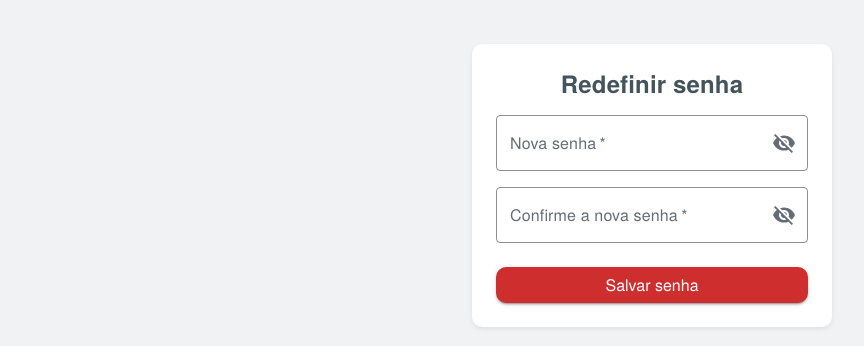
ResetPassword › should save the new password, open the session and go to the menu
The width and height of the screenshot is (864, 346).
Step 1. Type "senha-nova-1" into the password field labelled "Nova senha *" → (626, 143), box [496,115,756,171]
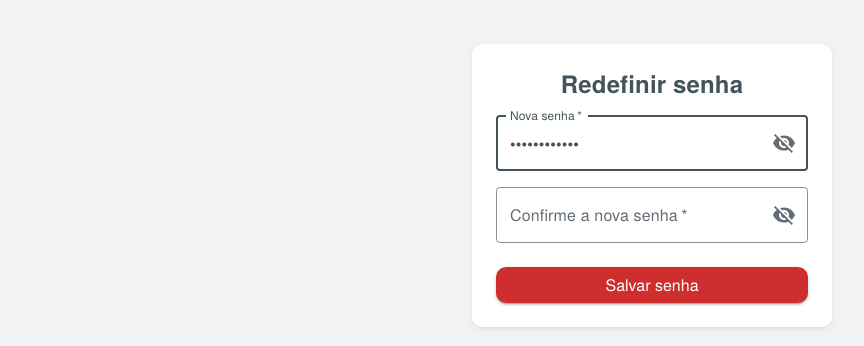
Step 2. Type "senha-nova-1" into the password field labelled "Confirme a nova senha *" → (626, 215), box [496,187,756,243]
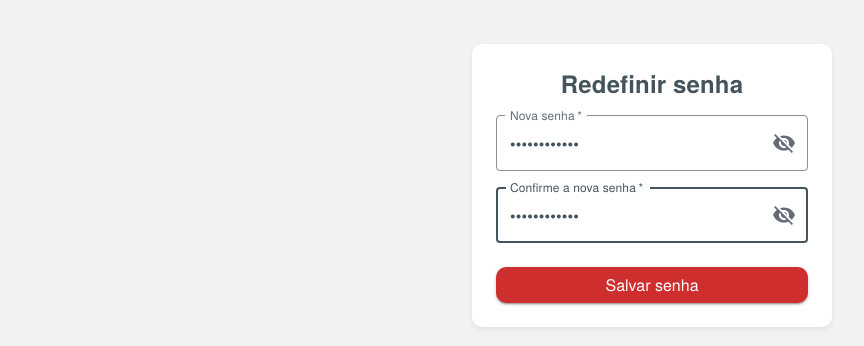
Step 3. Click the button "Salvar senha" → (652, 285), box [496,267,808,303]
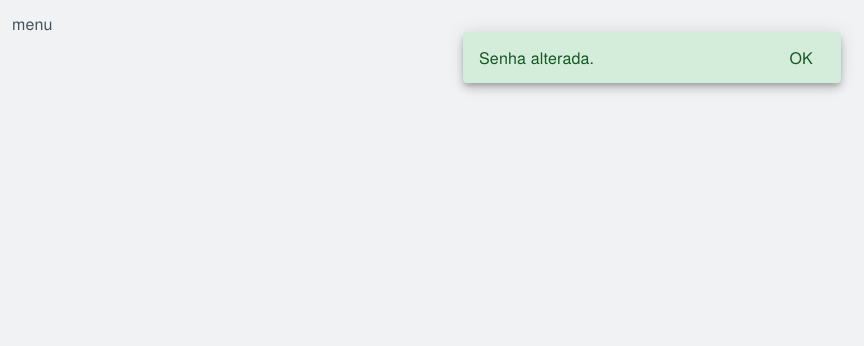
expect the text "Senha alterada." is shown: met, box [479,46,594,69]
